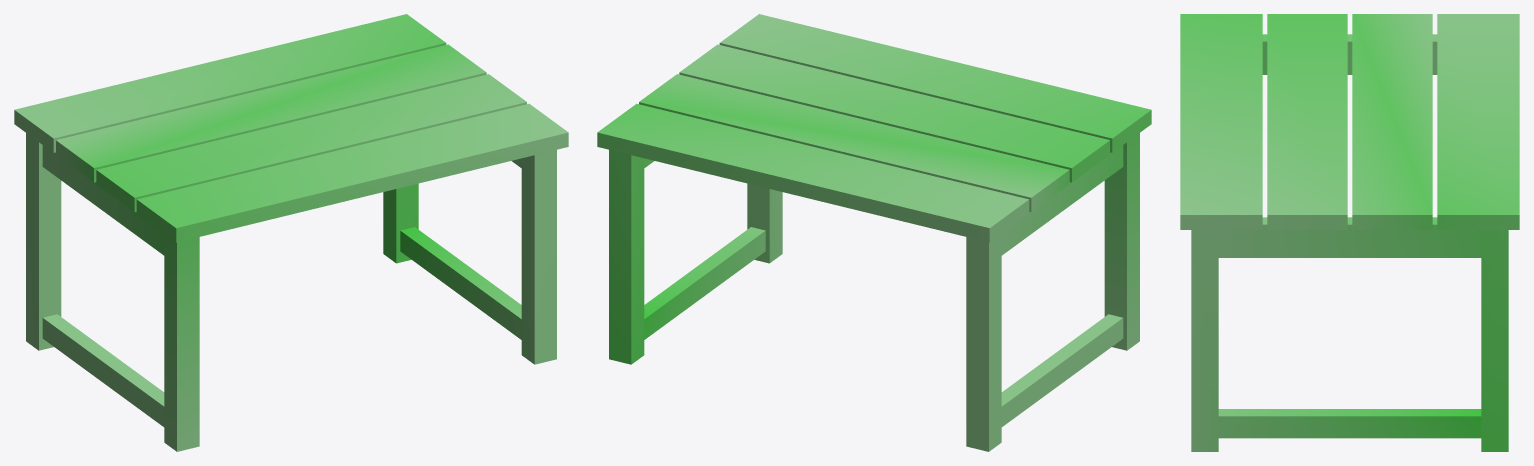
File: Table_1.fbx
3 views of the same model, side by side, from view 1: azimuth 30°, elevation 25°; view 2: azimuth 150°, elevation 25°; view 3: azimuth 270°, elevation 25° (orthographic). The views are drawn at different scales.
Parts seen in each view (by area): view 1: Table_1; view 2: Table_1; view 3: Table_1.
Boxes of the visible parts, x1,y1,x2,y2 form: Table_1: [14, 14, 568, 451]; Table_1: [597, 14, 1151, 451]; Table_1: [1180, 14, 1519, 451].
Bounding box in the file's own units: 1.75 × 0.9762 × 1.25.
